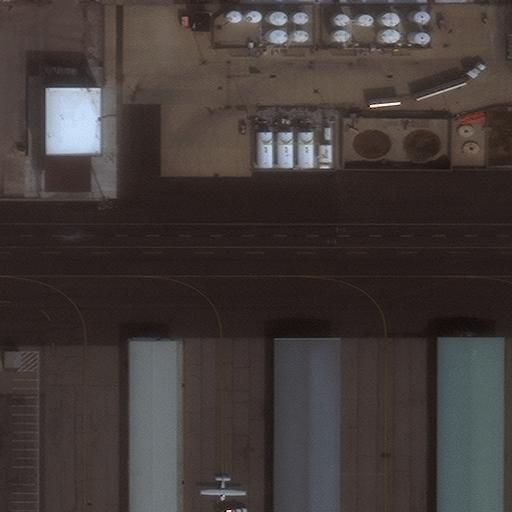Small Civil Transport: (201, 474, 244, 501)
